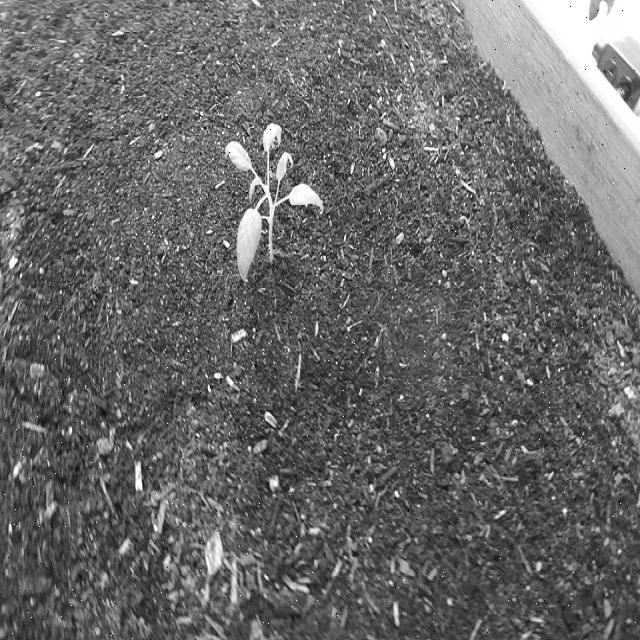Healthy: (225, 122, 325, 286)
